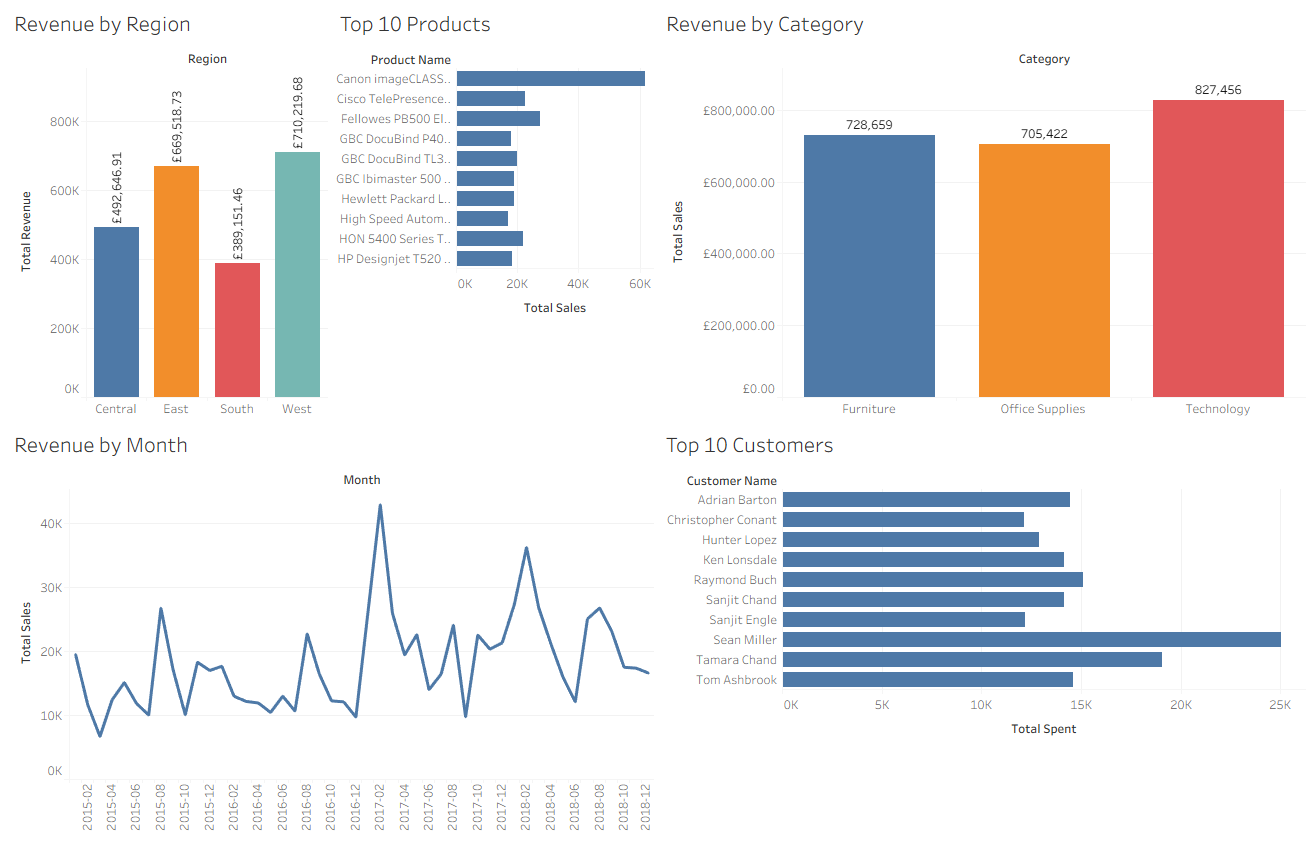

The page's visual inventory and layout, read from the dashboard file:
{"tool":"tableau","page":{"name":"Superstore Sales Insights Dashboard","canvas":[1000,1000],"units":"permille","ordinal":0},"visuals":[{"type":"worksheet","title":"Revenue by Region","mark":"Bar","rows":["total_revenue"],"cols":["region"],"box":[6.1,9.6,247,490.4]},{"type":"worksheet","title":"Top 10 Products","mark":"Automatic","rows":["product_name"],"cols":["total_sales"],"box":[253,9.6,247,490.4]},{"type":"worksheet","title":"Revenue by Category","mark":"Automatic","rows":["total_sales"],"cols":["category"],"box":[500,9.6,493.9,490.4]},{"type":"worksheet","title":"Revenue by Month","mark":"Line","rows":["total_sales"],"cols":["month"],"box":[6.1,500,493.9,490.4]},{"type":"worksheet","title":"Top 10 Customers","mark":"Automatic","rows":["customer_name"],"cols":["total_spent"],"box":[500,500,493.9,490.4]}]}

Visuals, with their boxes on the dashboard's canvas, which has no fixed pixel size, in thousandths of its width and height (x1, y1, x2, y2). These are canvas units, not pixel positions in the 1310x844 screenshot, which may show the page scaled, cropped or inside an application window:
"Revenue by Region" worksheet (Bar marks): <bbox>6, 10, 253, 500</bbox>
"Top 10 Products" worksheet: <bbox>253, 10, 500, 500</bbox>
"Revenue by Category" worksheet: <bbox>500, 10, 994, 500</bbox>
"Revenue by Month" worksheet (Line marks): <bbox>6, 500, 500, 990</bbox>
"Top 10 Customers" worksheet: <bbox>500, 500, 994, 990</bbox>
